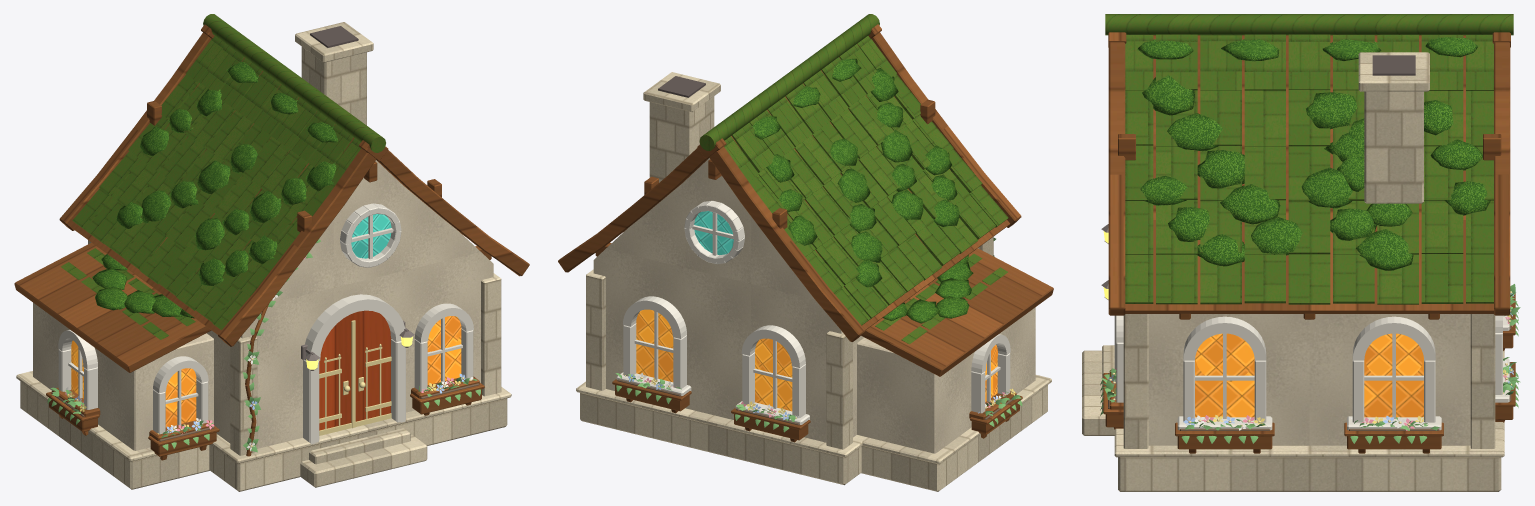
The model's file is cottage-moss-Bpiu3Ptn.glb.
The picture shows the model from 3 angles, left to right: view 1: azimuth 30°, elevation 25°; view 2: azimuth 150°, elevation 25°; view 3: azimuth 270°, elevation 25°; orthographic projection. The views are drawn at different scales.
Parts seen in each view (by area): view 1: cottage-moss; view 2: cottage-moss; view 3: cottage-moss.
Part boxes in pixels (box(x1,y1,x2,y2)): cottage-moss: box(14, 14, 529, 491); cottage-moss: box(558, 14, 1053, 491); cottage-moss: box(1082, 14, 1520, 491).
Size of the model in its own units: 6.46 by 5.29 by 5.29.
Materials: 20 (8 with a texture image).
